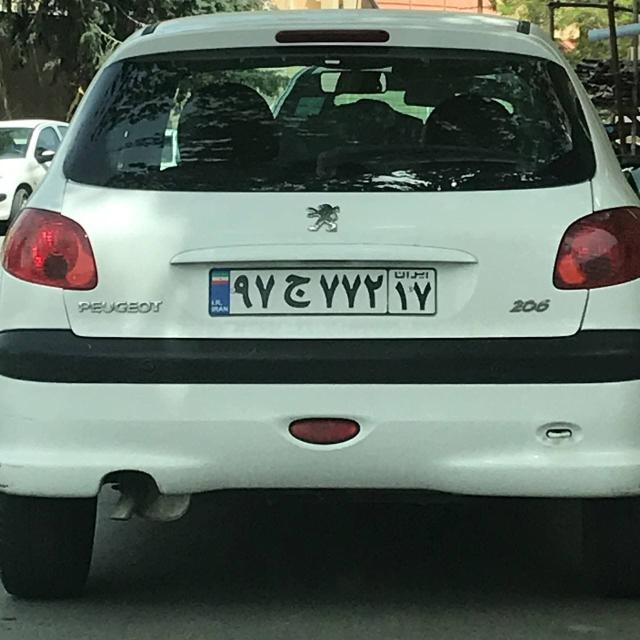Plates: (209, 267, 436, 316)
